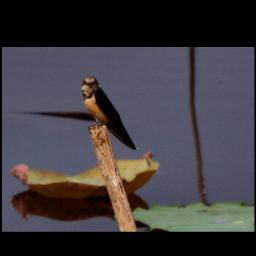Swallow: (80, 76, 138, 153)
